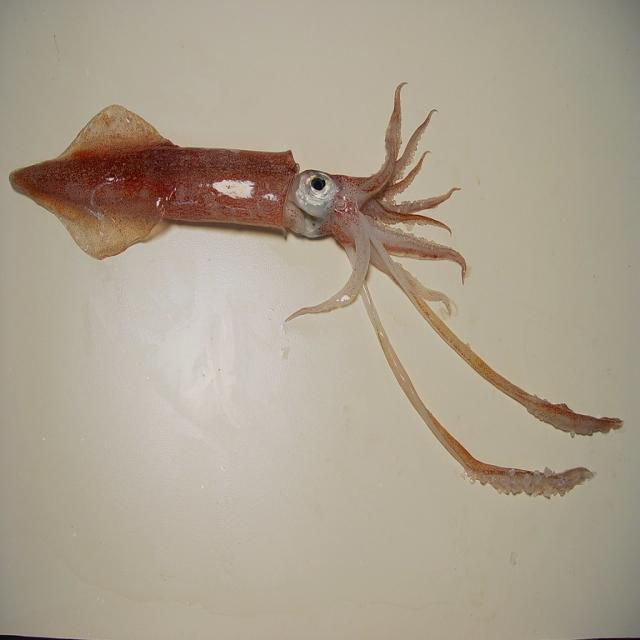SQUID: (6, 69, 545, 398)
